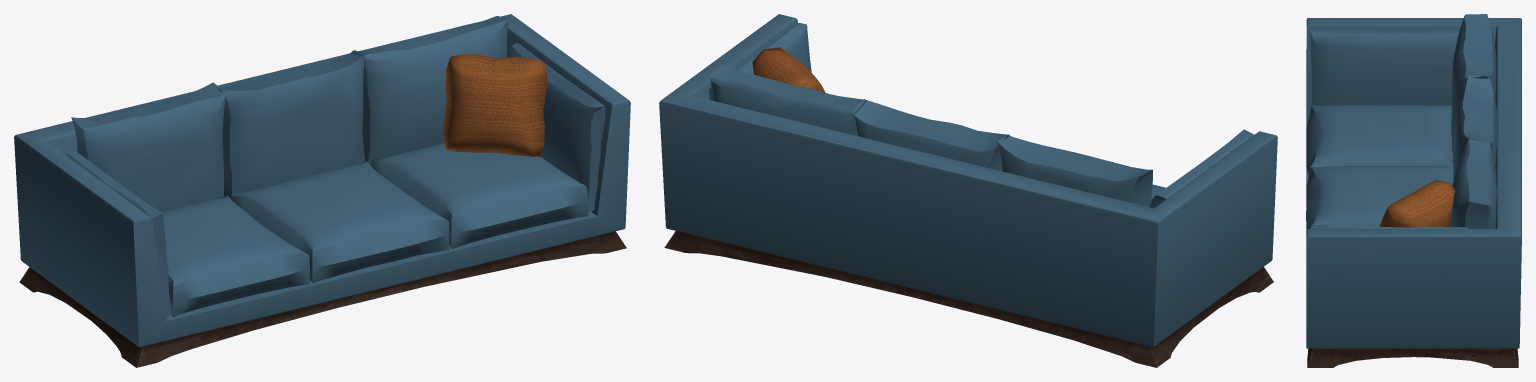
The picture shows the model from 3 angles, left to right: view 1: azimuth 30°, elevation 25°; view 2: azimuth 150°, elevation 25°; view 3: azimuth 270°, elevation 25°; orthographic projection. The views are drawn at different scales.
Parts seen in each view (by area): view 1: Object_6, Object_4, Object_7; view 2: Object_6, Object_7, Object_4; view 3: Object_6, Object_7, Object_4.
Boxes of the visible parts, left/top/right/bottom form: Object_6: left=14, top=14, right=630, bottom=347; Object_4: left=443, top=54, right=547, bottom=156; Object_7: left=19, top=231, right=626, bottom=367; Object_6: left=659, top=14, right=1277, bottom=347; Object_7: left=664, top=231, right=1273, bottom=367; Object_4: left=752, top=47, right=825, bottom=92; Object_6: left=1306, top=14, right=1521, bottom=348; Object_7: left=1307, top=348, right=1518, bottom=367; Object_4: left=1379, top=180, right=1454, bottom=227.
Bounding box in the file's own units: 2.16 × 0.7073 × 0.8993.
3 materials, 3 textured.
